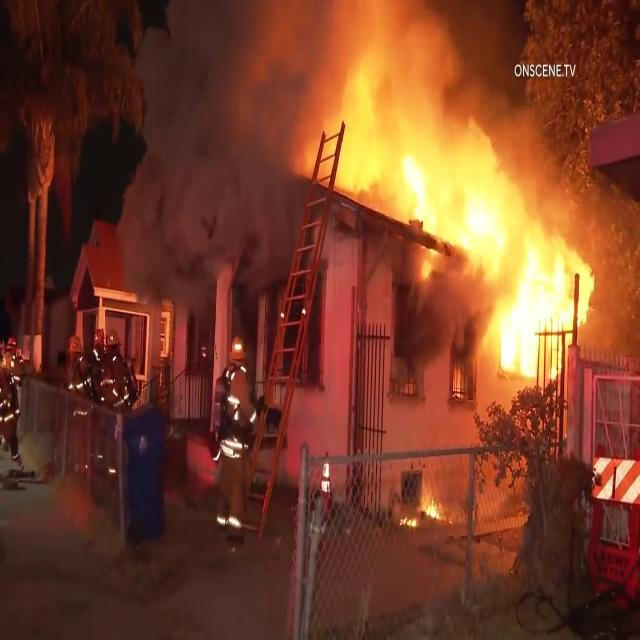Fire: (380, 96, 598, 396), (399, 476, 447, 531)
Smoke: (113, 0, 449, 262)
